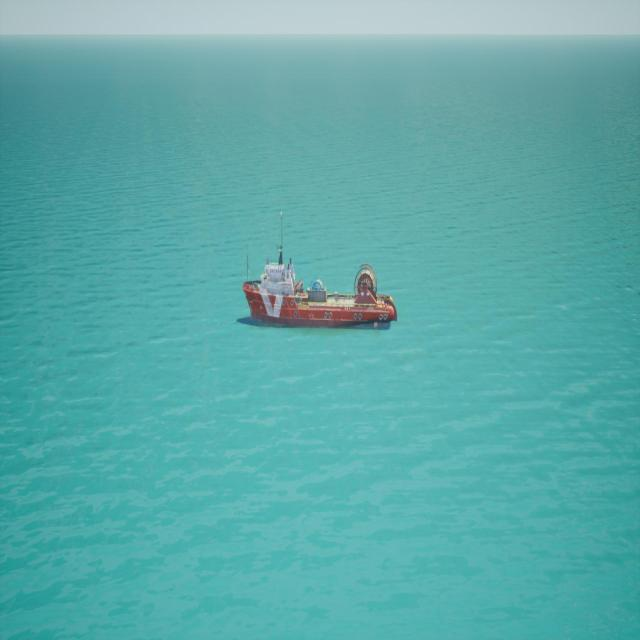tug boat: (240, 216, 399, 335)
